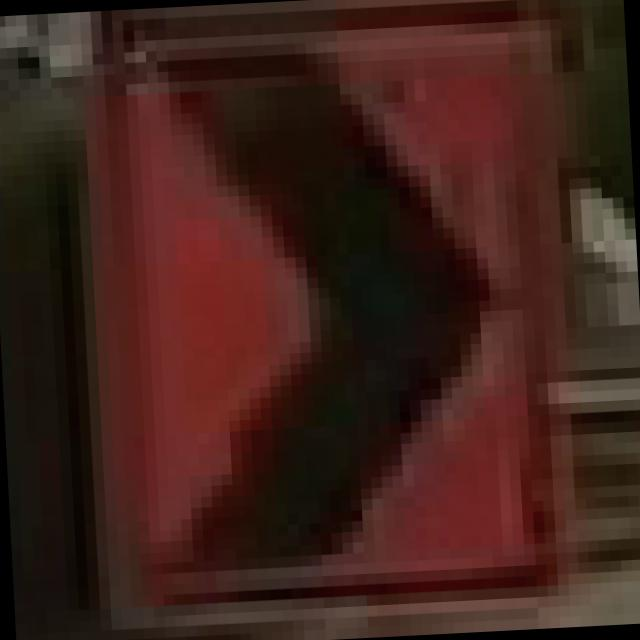curveright_sign: (58, 0, 591, 620)
